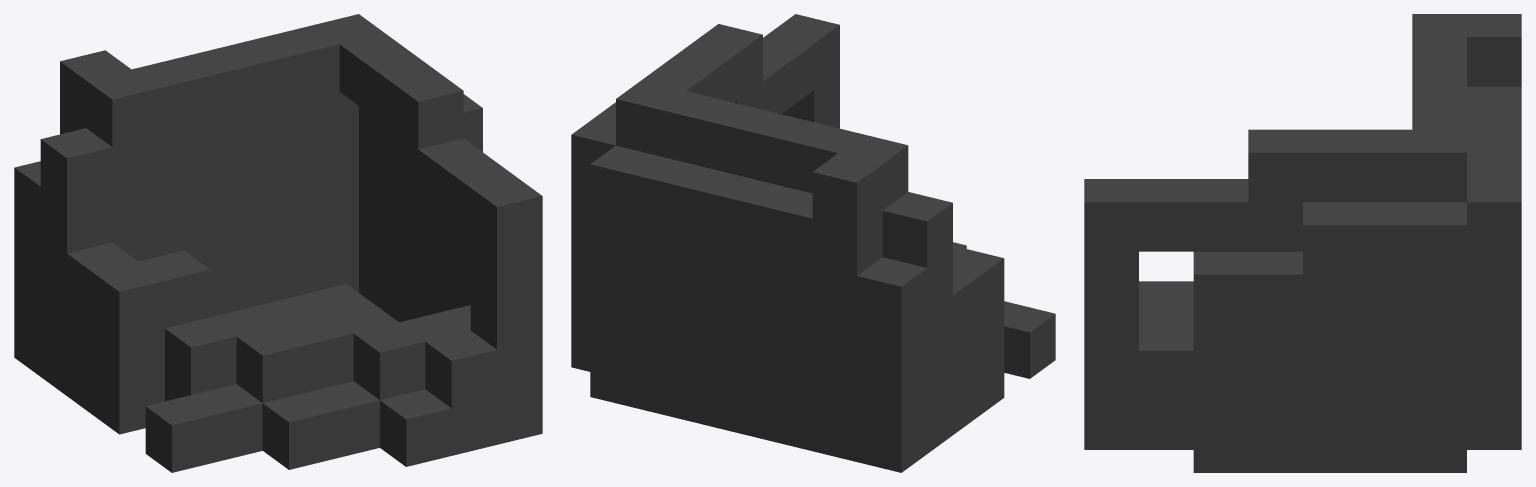
The model's file is cristais-3.obj.
The picture shows the model from 3 angles, left to right: view 1: azimuth 30°, elevation 25°; view 2: azimuth 150°, elevation 25°; view 3: azimuth 270°, elevation 25°; orthographic projection. The views are drawn at different scales.
Size of the model in its own units: 0.8 by 0.6 by 0.8.
1 material, 1 textured.
